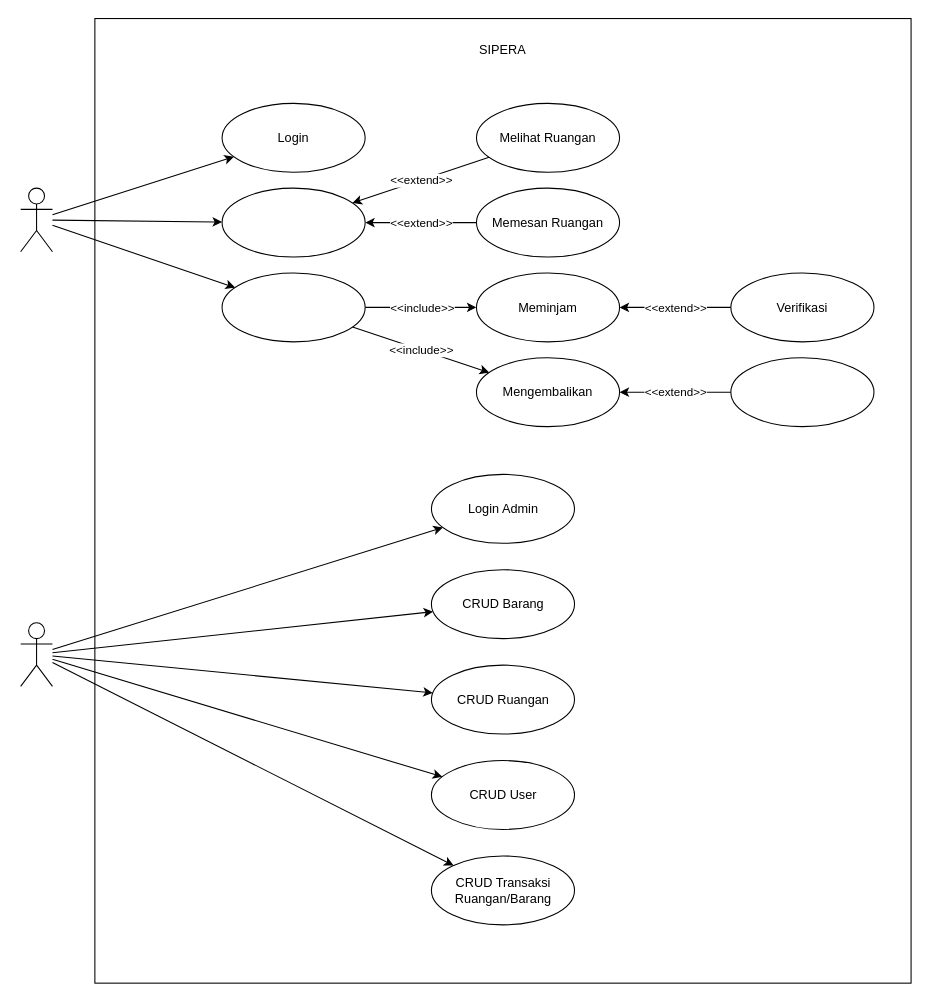
Image size: 930x1002. Some labels were removed from this diagram. The shapes that lost their labels are listed below. From the top down, each one's centre as x and y in pixels, then its label:
At [36,219]: "User".
At [293,222]: "Meminjam Ruangan".
At [293,307]: "Meminjam Barang".
At [802,392]: "Cari NIM Peminjam".
At [36,654]: "Admin".
